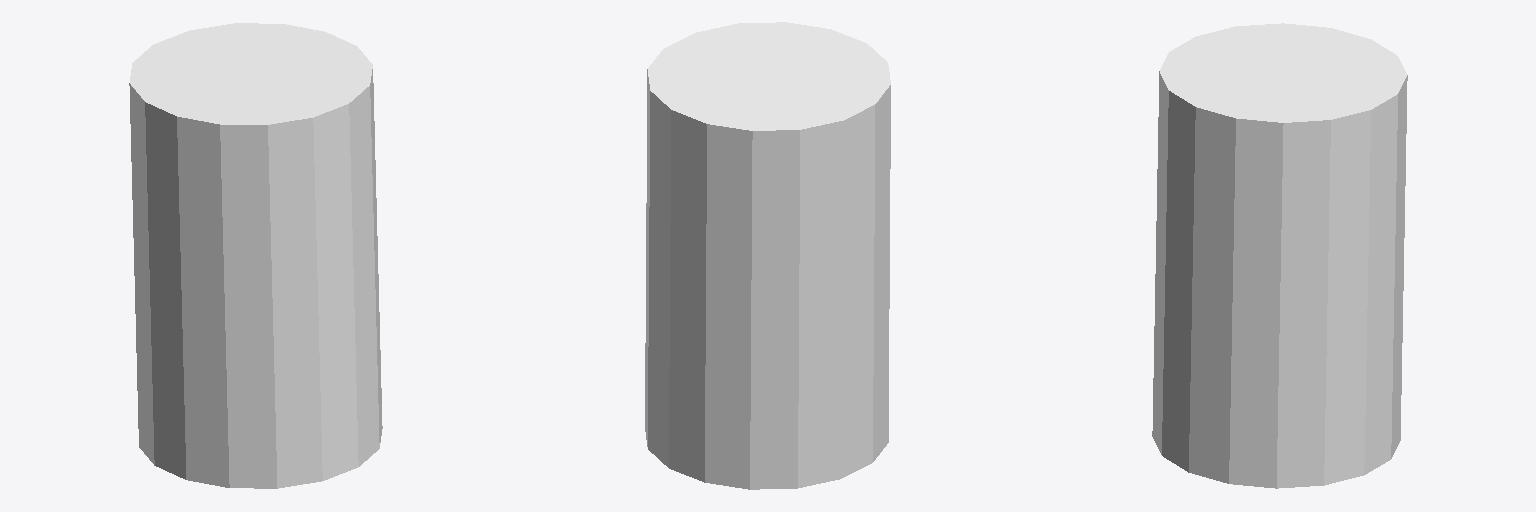
File: scene_vide.obj
3 renders of one model, left to right at view 1: azimuth 30°, elevation 25°; view 2: azimuth 150°, elevation 25°; view 3: azimuth 270°, elevation 25°, orthographic.
Parts seen in each view (by area): view 1: WSVCylinder_3; view 2: WSVCylinder_3; view 3: WSVCylinder_3.
Boxes of the visible parts, box(x1,y1,x2,y2) form: WSVCylinder_3: box(129, 23, 382, 488); WSVCylinder_3: box(645, 22, 890, 489); WSVCylinder_3: box(1152, 23, 1407, 488).
Size of the model in its own units: 0.313 by 0.5043 by 0.3169.